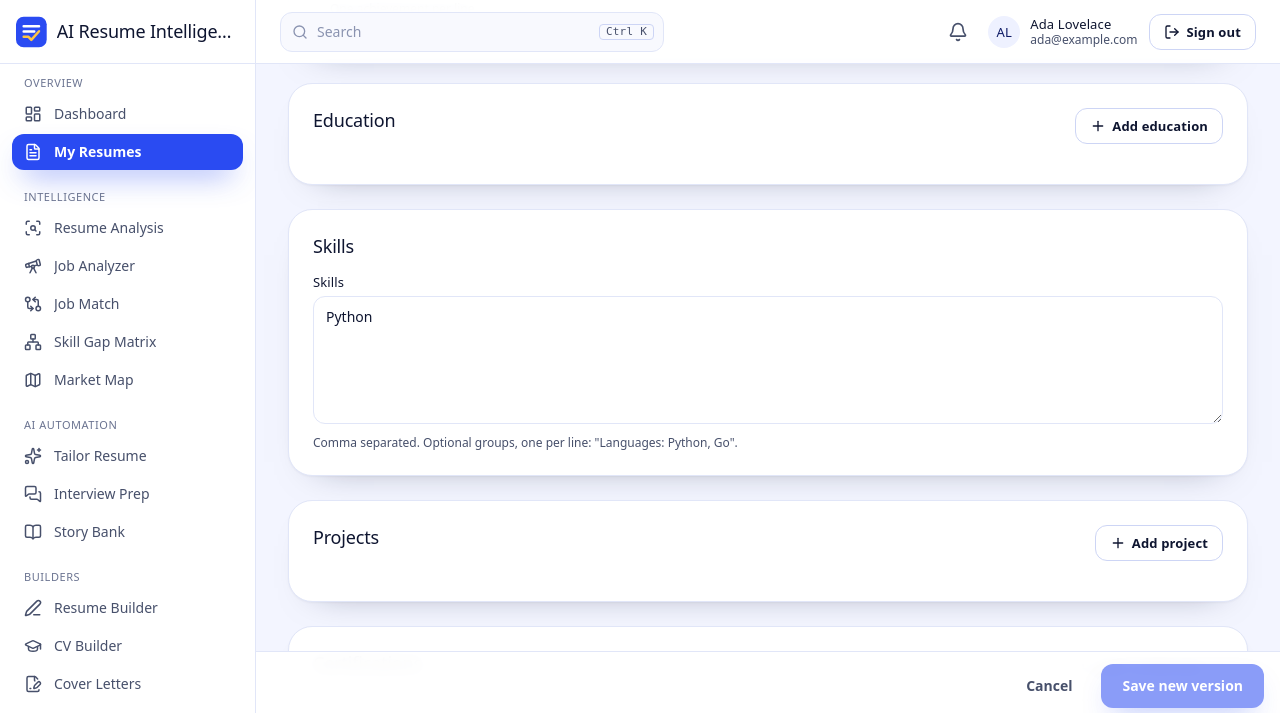
Test: editing › saves against the current version and reports conflicts
(page scrolled)
In the text box labelled "Skills": {"x": 768, "y": 360} 313,296 -> 1223,424, type ", Go"
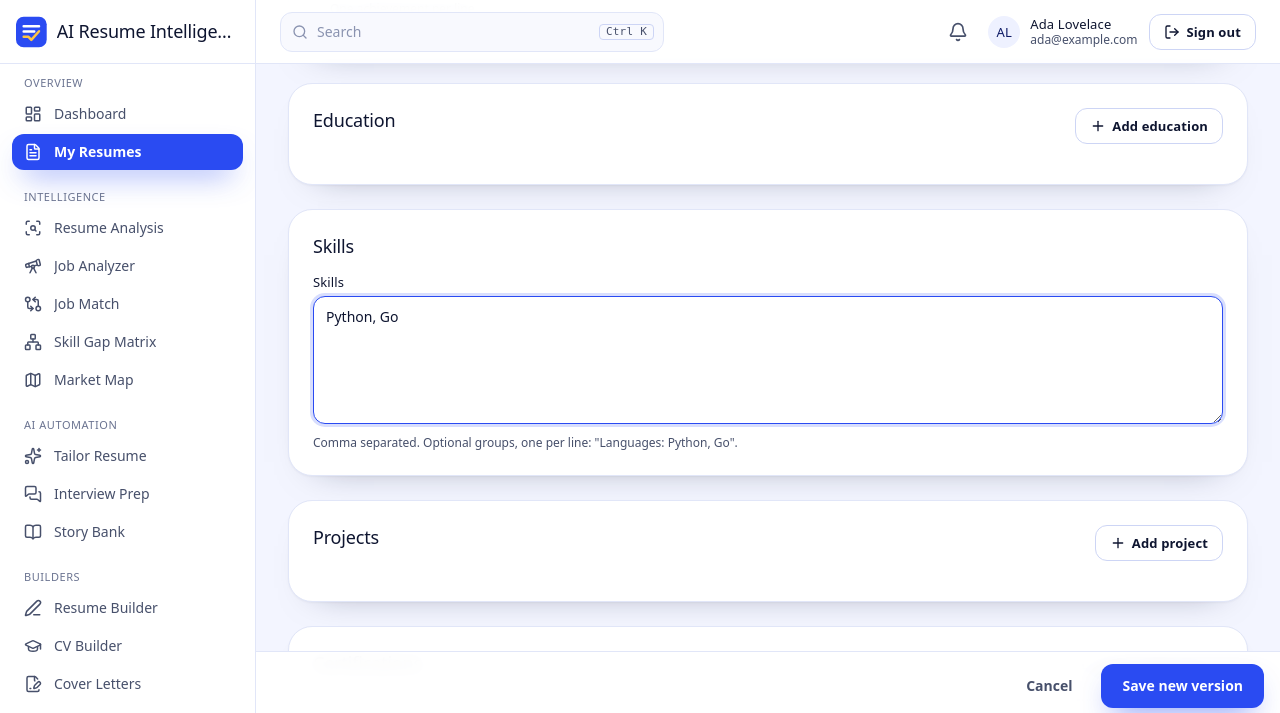
Click the button "Save new version": {"x": 1183, "y": 686} 1101,664 -> 1264,708
(page scrolled)
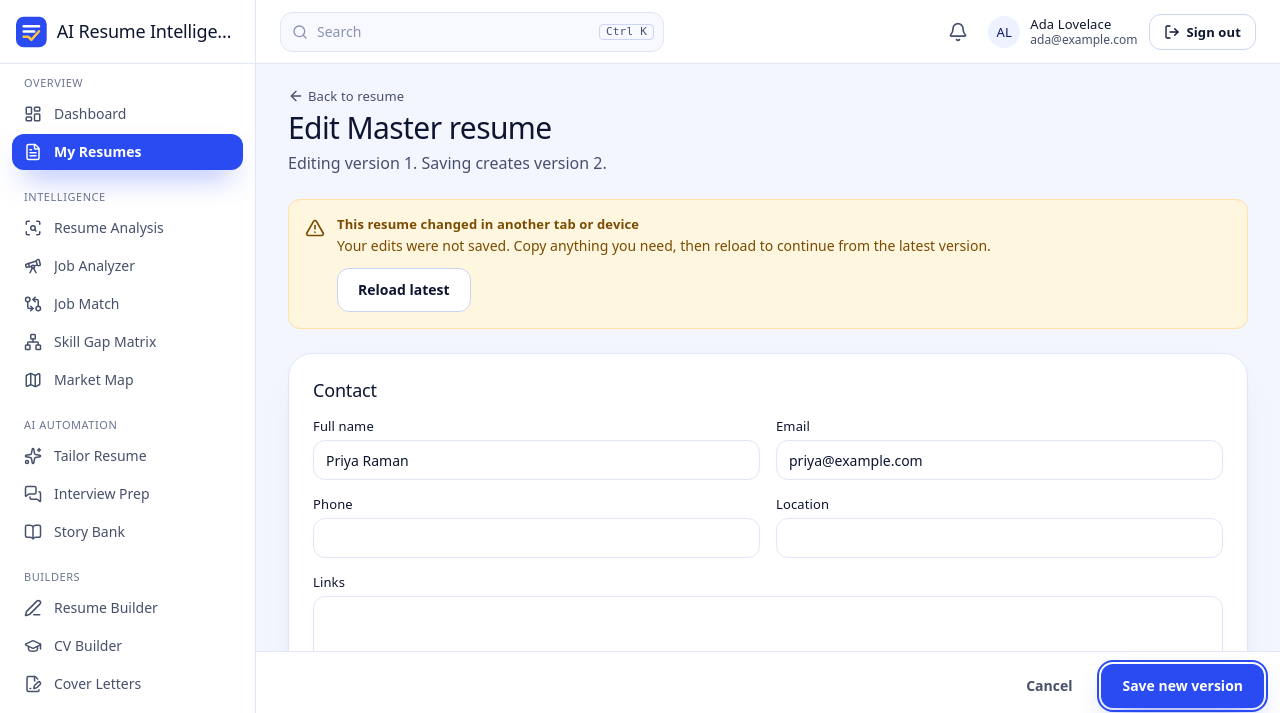
Expected: the text "This resume changed in another tab or device" is shown, 337,215 -> 639,233
